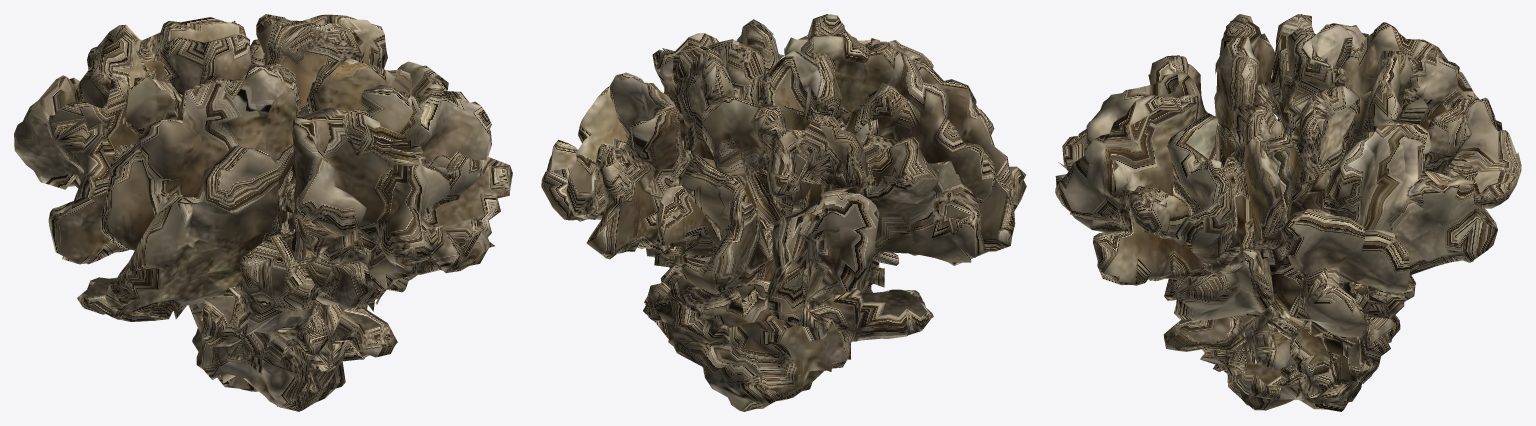
File: coral-pocillopora.glb
3 views of the same model, side by side, from view 1: azimuth 30°, elevation 25°; view 2: azimuth 150°, elevation 25°; view 3: azimuth 270°, elevation 25° (orthographic). The views are drawn at different scales.
Size of the model in its own units: 0.2488 by 0.206 by 0.2458.
Materials: 1 (1 with a texture image).
